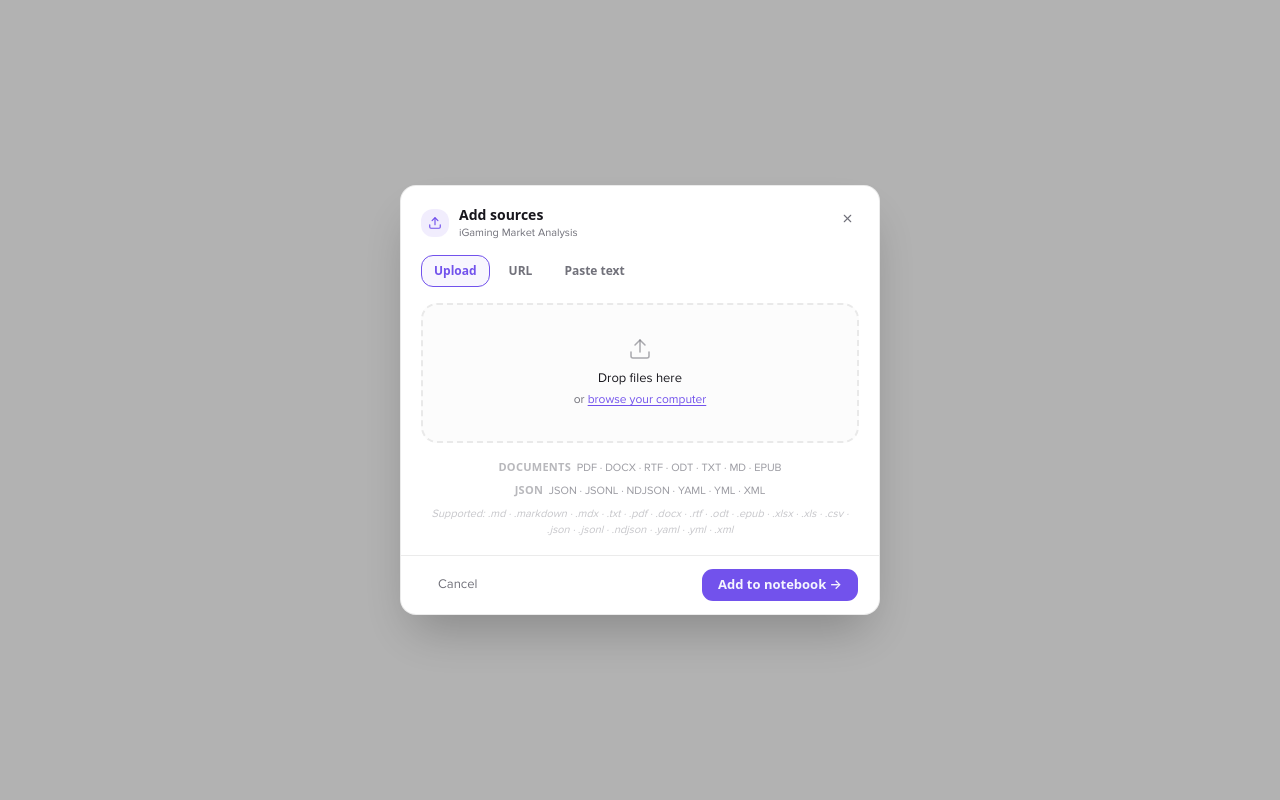
Scenario: AddSourcesModal › "Add to notebook →" is enabled when paste content is filled
The width and height of the screenshot is (1280, 800).
Click the tab "Paste text" at (595, 271), box [551,255,638,287]
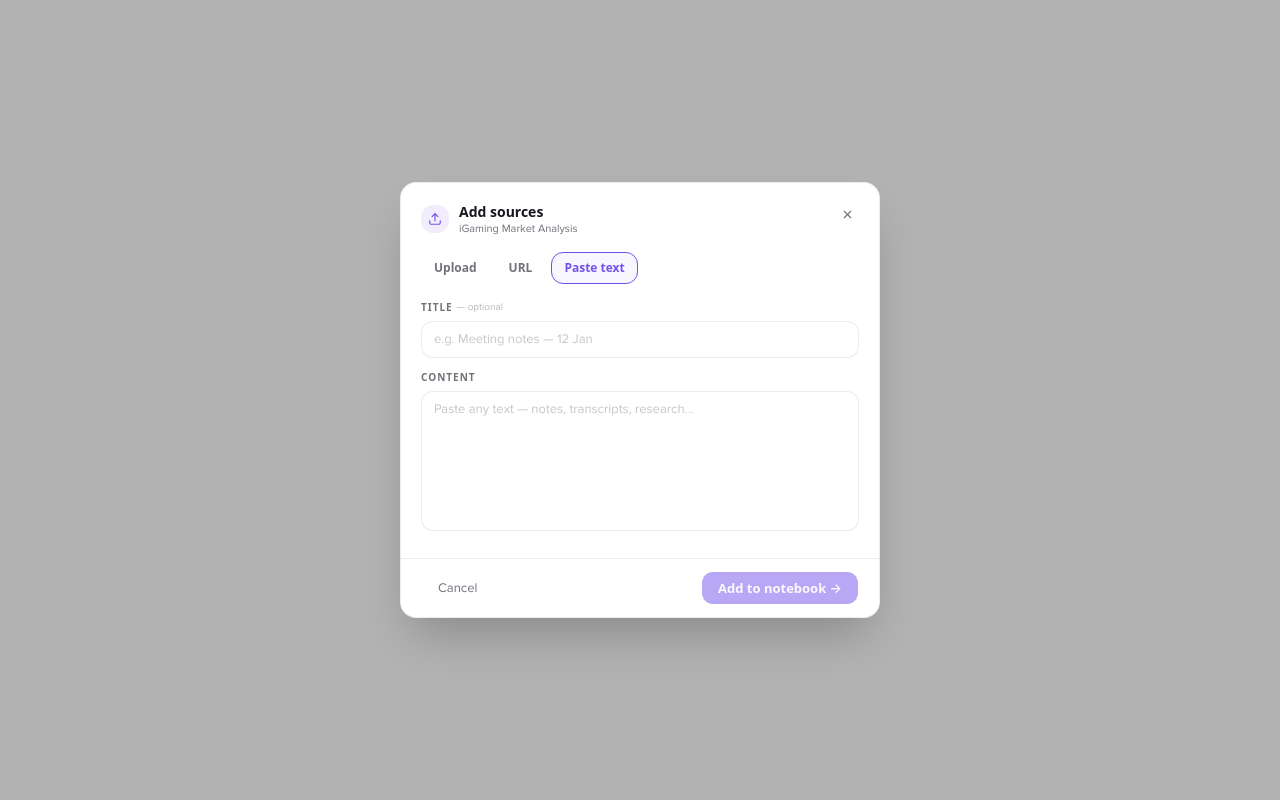
Type "Some text content here" into the text box labelled "Content" at (640, 461), box [421,391,859,531]
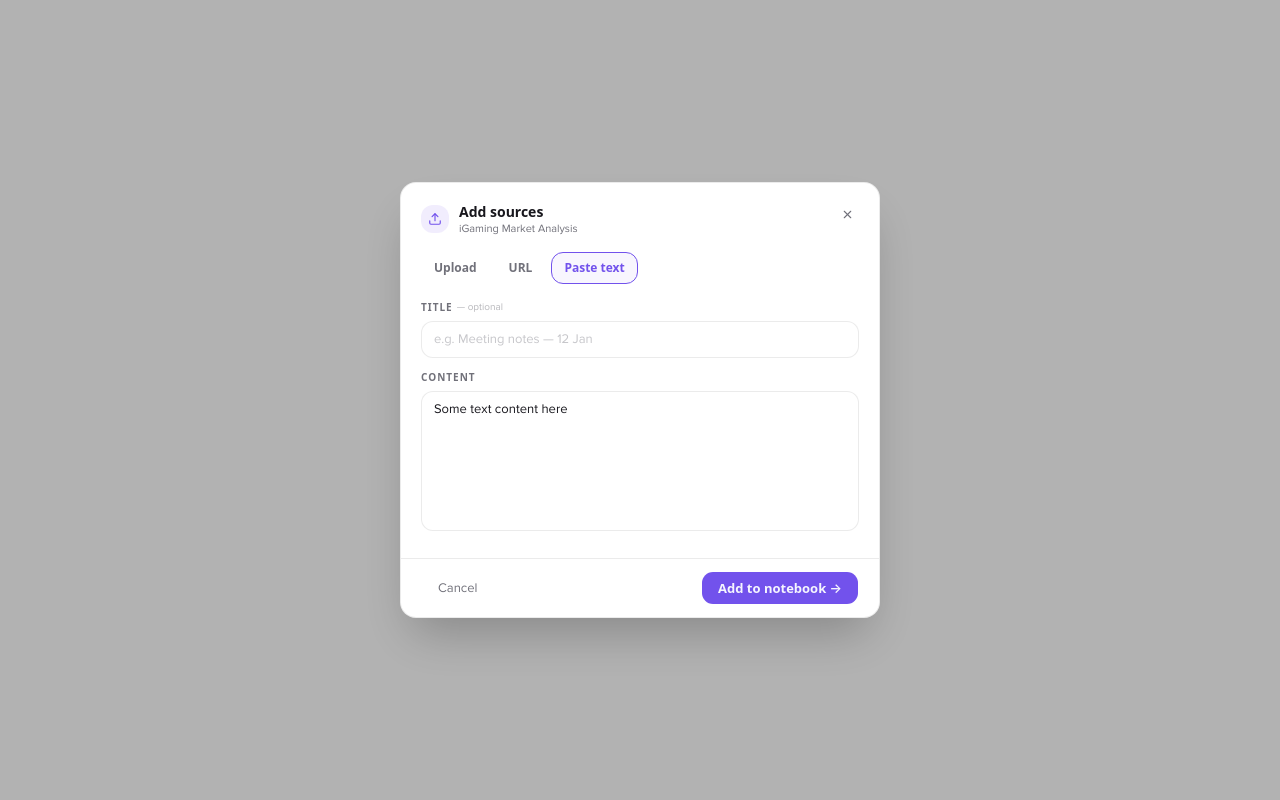
Result: the button "Add to notebook →" is enabled at [701,571,859,605]
